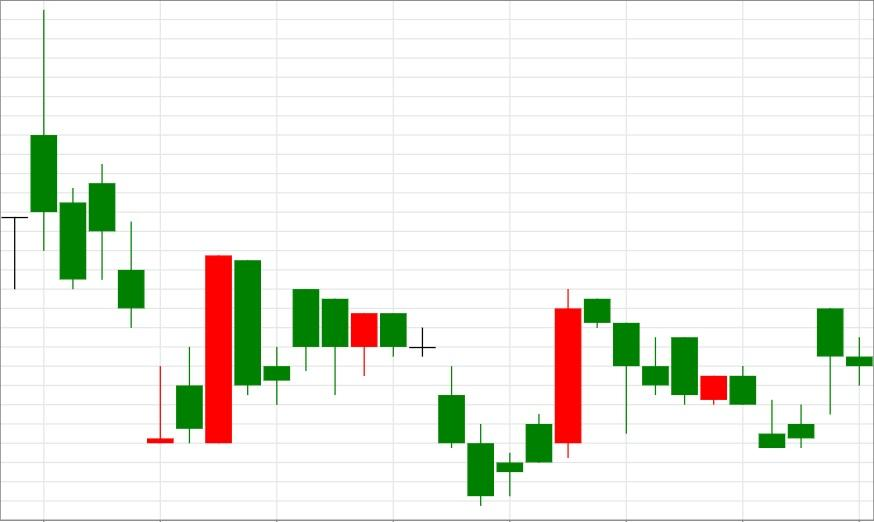bullish_engulfing_rise: (88, 164, 233, 444)
three_black_crows_fall: (466, 289, 670, 506)
